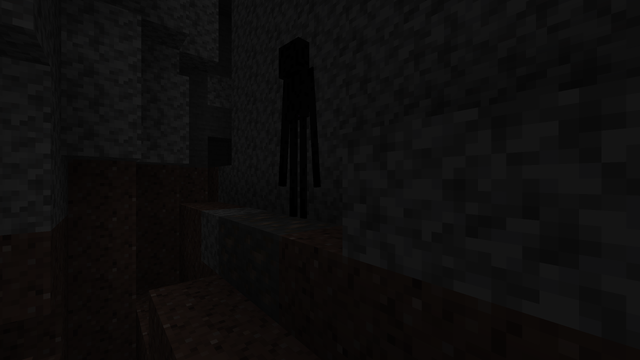endermens: (274, 28, 311, 220)
